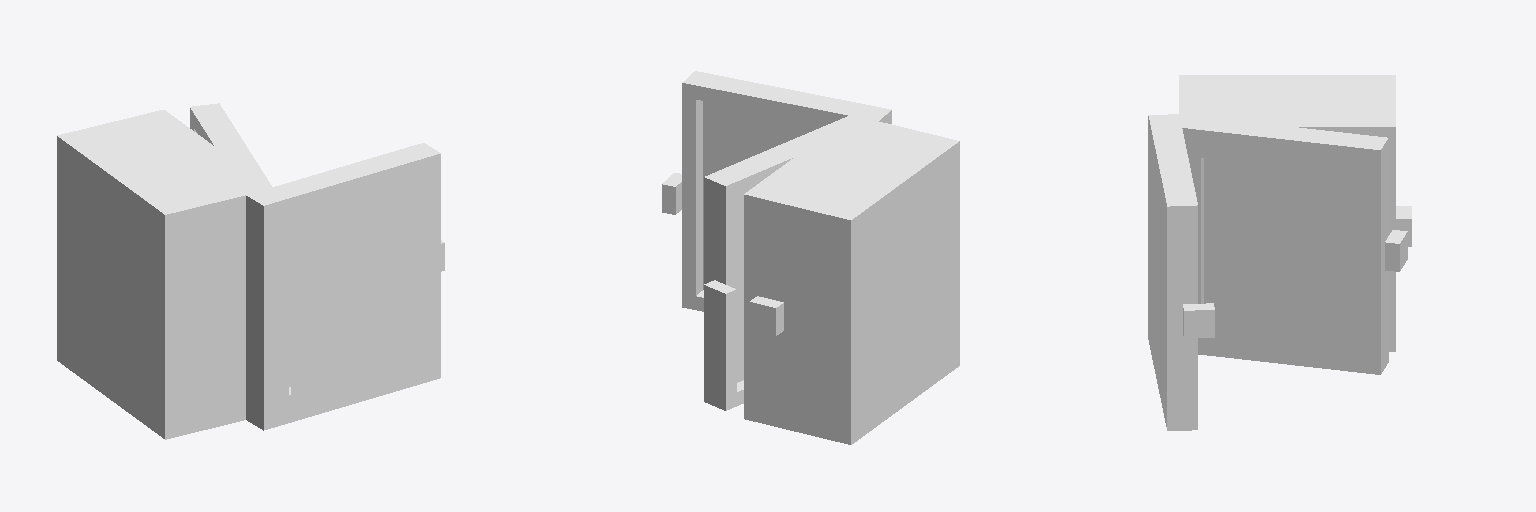
Rendered from case.obj.
3 views of the same model, side by side, from view 1: azimuth 30°, elevation 25°; view 2: azimuth 150°, elevation 25°; view 3: azimuth 270°, elevation 25° (orthographic).
Visible parts, largest first — view 1: case_bottom, case_lid_wood_open, case_lid_glass_open, case_lid_wood_item, case_lid_wood; view 2: case_bottom, case_lid_wood_open, case_lid_wood_item, case_lid_wood, case_lid_glass_open, case_lid_glass_item, case_lid_latch, case_lid_latch_item, case_lid_latch_open; view 3: case_lid_glass_item, case_lid_wood_item, case_lid_wood_open, case_bottom, case_lid_wood, case_lid_glass_open, case_lid_latch_open, case_lid_latch_item.
Boxes of the visible parts, <box> form: case_bottom: <box>57,116,245,439</box>; case_lid_wood_open: <box>246,143,440,430</box>; case_lid_glass_open: <box>289,189,415,393</box>; case_lid_wood_item: <box>190,103,271,194</box>; case_lid_wood: <box>138,110,270,193</box>; case_bottom: <box>771,122,959,444</box>; case_lid_wood_open: <box>682,71,891,311</box>; case_lid_wood_item: <box>704,112,874,410</box>; case_lid_wood: <box>744,120,878,425</box>; case_lid_glass_open: <box>717,111,813,170</box>; case_lid_glass_item: <box>737,198,743,368</box>; case_lid_latch: <box>750,296,783,335</box>; case_lid_latch_item: <box>704,280,736,321</box>; case_lid_latch_open: <box>662,173,681,214</box>; case_lid_glass_item: <box>1204,159,1350,343</box>; case_lid_wood_item: <box>1173,114,1388,374</box>; case_lid_wood_open: <box>1148,114,1197,430</box>; case_bottom: <box>1179,75,1395,113</box>; case_lid_wood: <box>1179,114,1395,351</box>; case_lid_glass_open: <box>1151,158,1164,389</box>; case_lid_latch_open: <box>1183,303,1214,338</box>; case_lid_latch_item: <box>1385,230,1407,271</box>.
Bounding box in the file's own units: 1.32 × 1 × 1.06.